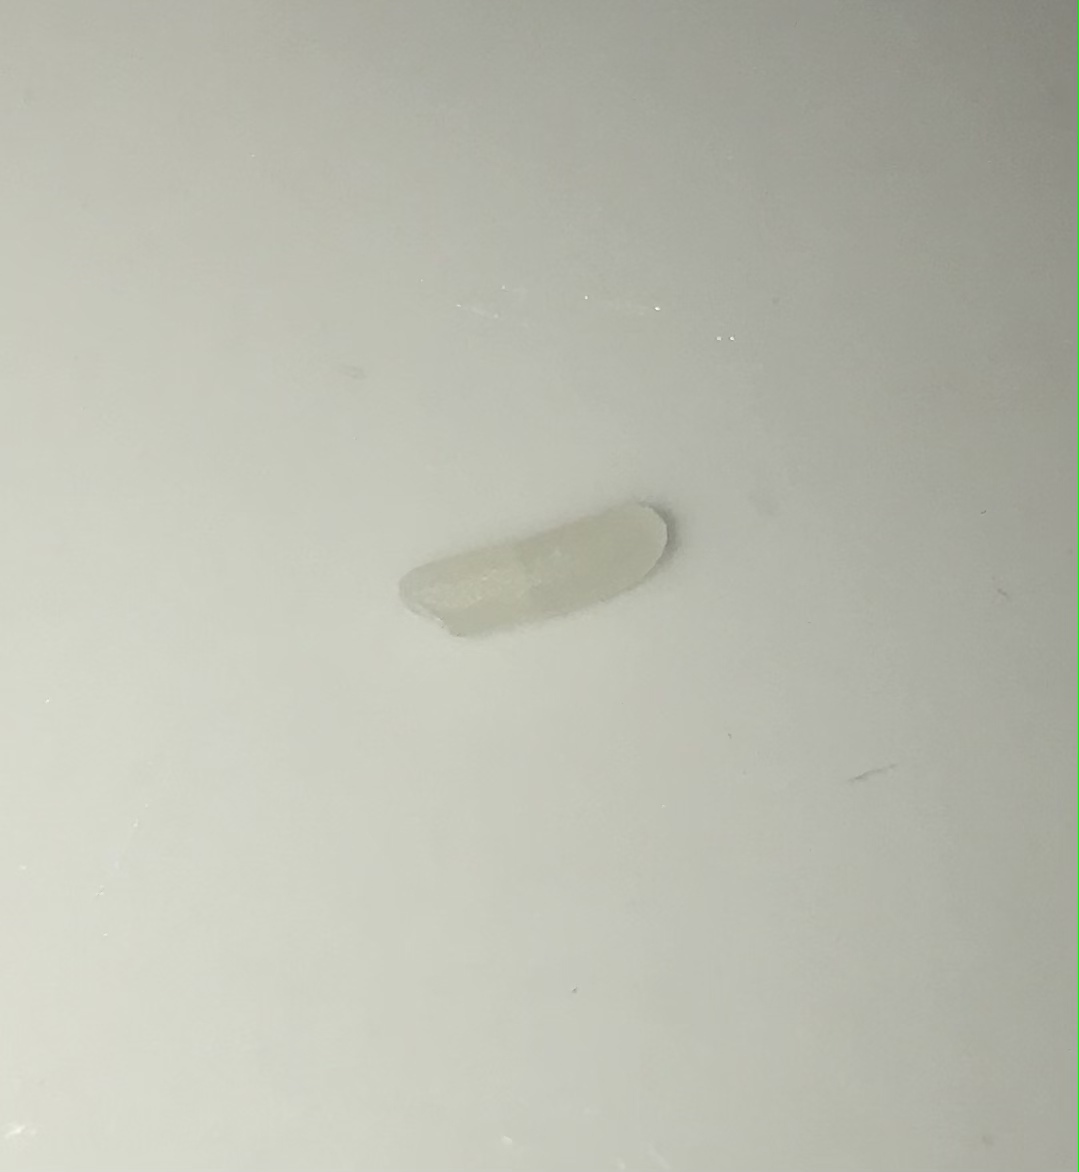Gao Thom Go Cong: (367, 475, 708, 660)
